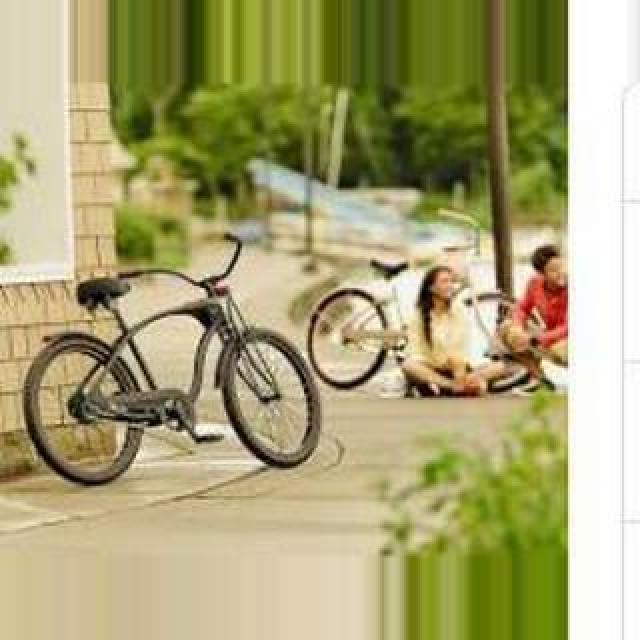MC-Bike: (398, 266, 528, 396), (500, 246, 568, 374)
Person: (21, 235, 323, 485), (304, 211, 550, 395)
